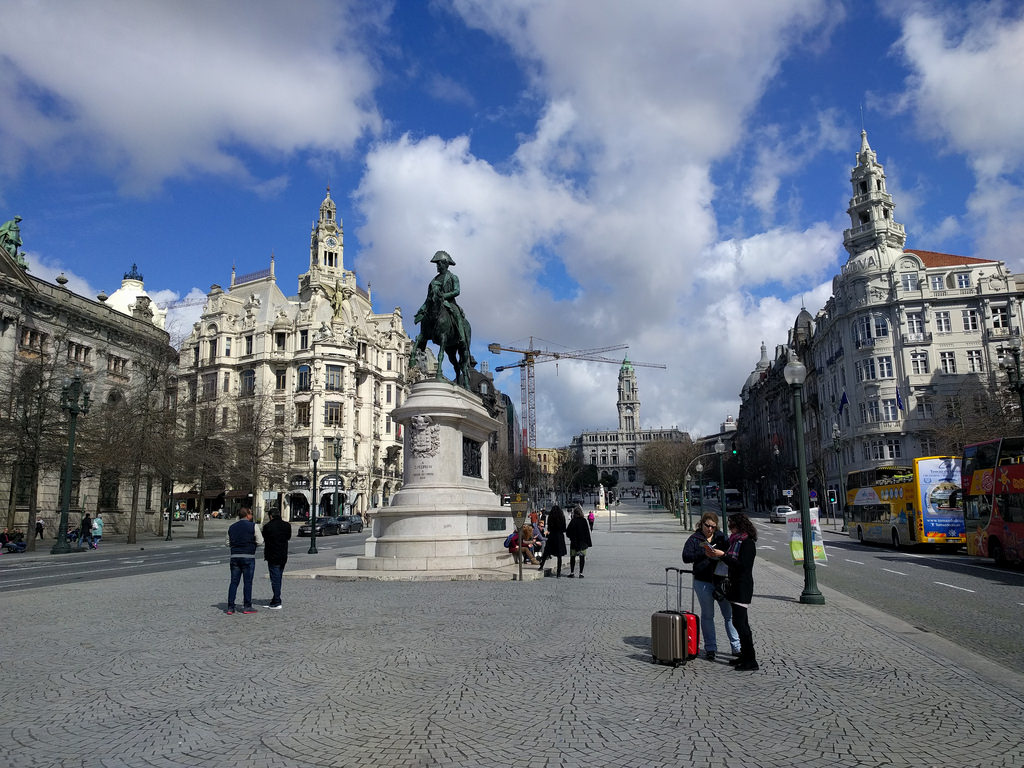camara: (571, 352, 696, 492)
